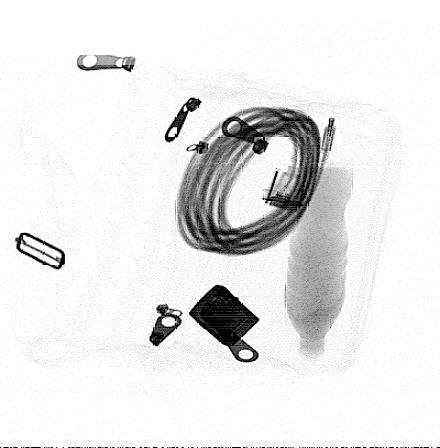Lighter: (187, 285, 261, 347)
